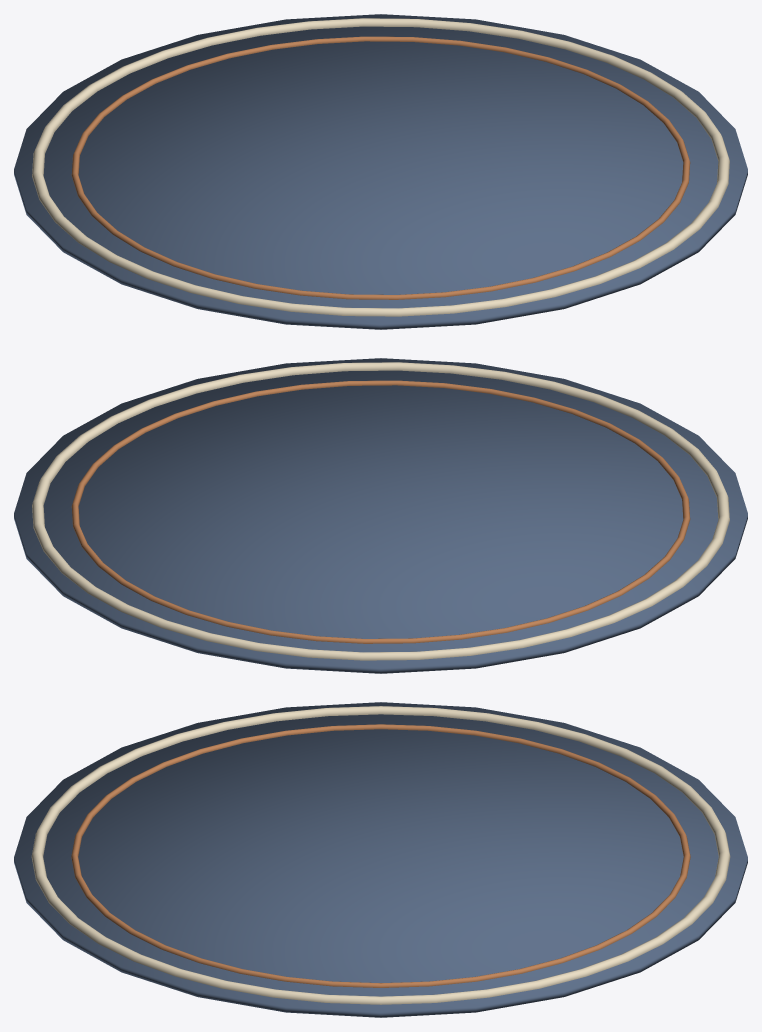
The model's file is rug.glb.
3 views of the same model, one above another, from view 1: azimuth 30°, elevation 25°; view 2: azimuth 150°, elevation 25°; view 3: azimuth 270°, elevation 25° (orthographic).
Parts seen in each view (by area): view 1: root_rug, root_cream, root_copper; view 2: root_rug, root_cream, root_copper; view 3: root_rug, root_cream, root_copper.
Part boxes in pixels (left/top/right/bottom): root_rug: left=14, top=14, right=747, bottom=329; root_cream: left=32, top=18, right=729, bottom=316; root_copper: left=71, top=36, right=690, bottom=299; root_rug: left=14, top=358, right=747, bottom=673; root_cream: left=32, top=362, right=729, bottom=660; root_copper: left=71, top=380, right=690, bottom=643; root_rug: left=14, top=702, right=747, bottom=1017; root_cream: left=31, top=706, right=730, bottom=1004; root_copper: left=71, top=724, right=690, bottom=987.
Bounding box in the file's own units: 3.14 × 0.053 × 3.14.
